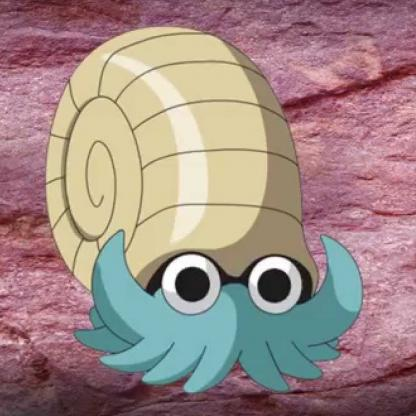Omanyte: (45, 25, 362, 398)
